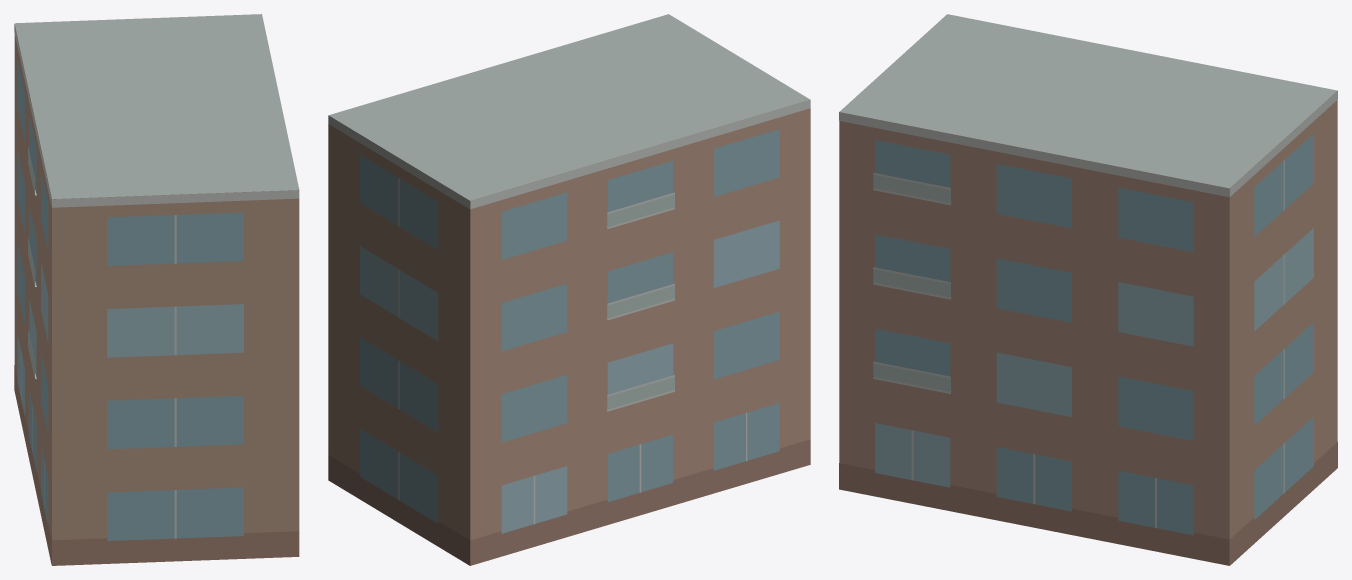
Rendered from survey-upis-32505684.glb.
3 views of the same model, side by side, from view 1: azimuth 30°, elevation 25°; view 2: azimuth 150°, elevation 25°; view 3: azimuth 270°, elevation 25° (orthographic). The views are drawn at different scales.
Parts seen in each view (by area): view 1: survey-upis-32505684.tmp; view 2: survey-upis-32505684.tmp; view 3: survey-upis-32505684.tmp.
Part boxes in pixels (<box>): survey-upis-32505684.tmp: <box>14,14,299,565</box>; survey-upis-32505684.tmp: <box>328,14,810,565</box>; survey-upis-32505684.tmp: <box>839,14,1337,565</box>.
Bounding box in the file's own units: 10.32 × 10.4 × 12.46.
